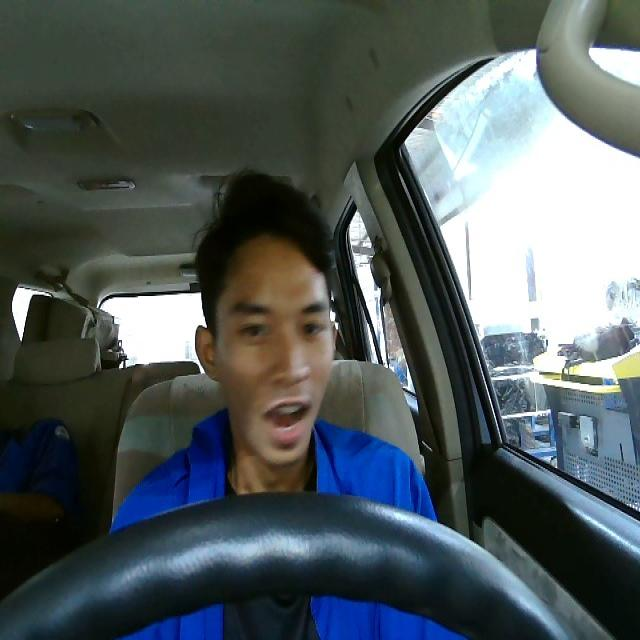yarning: (192, 236, 336, 465)
